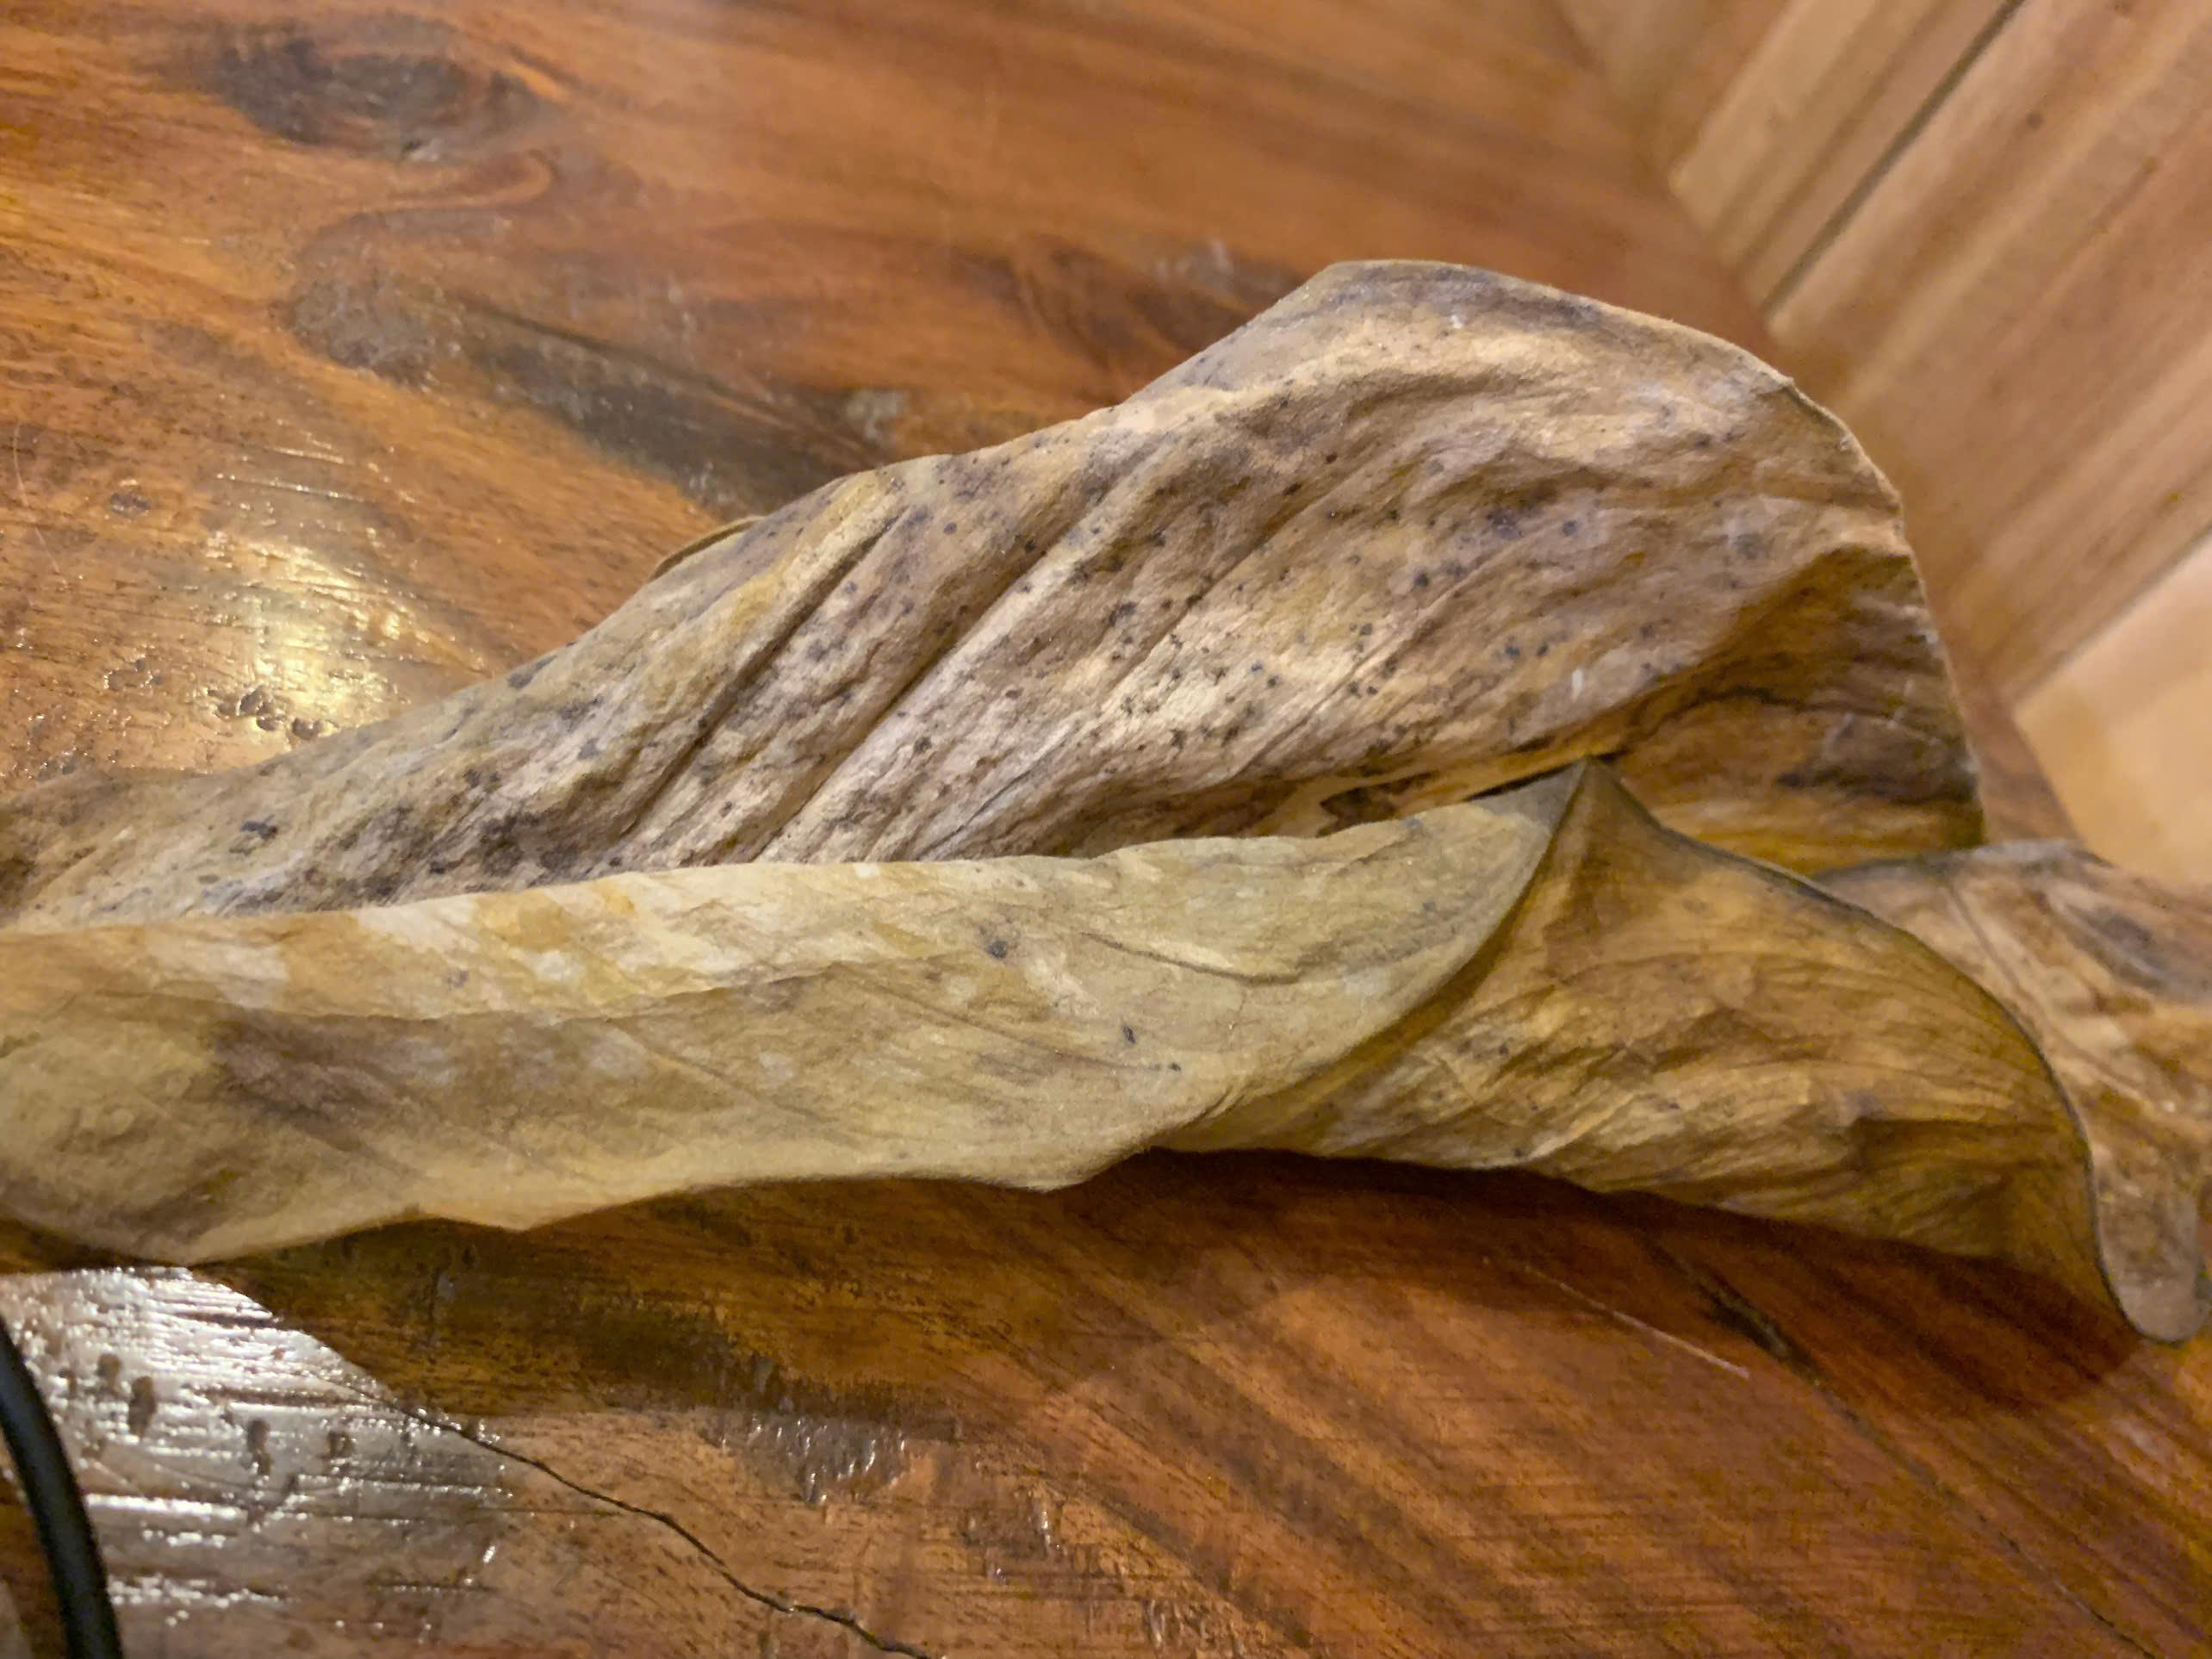Huu co: (14, 268, 2196, 1195)
